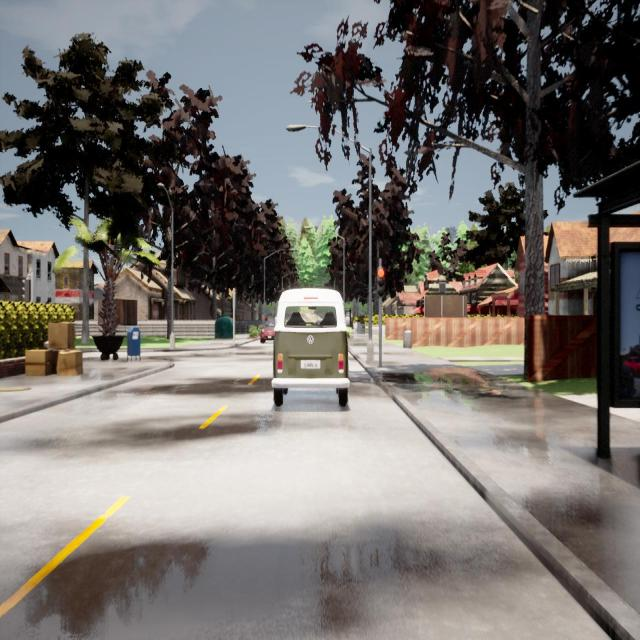Vehicle: (272, 288, 350, 406), (260, 321, 274, 344)
traffic_light: (377, 268, 385, 296), (22, 279, 31, 301)
